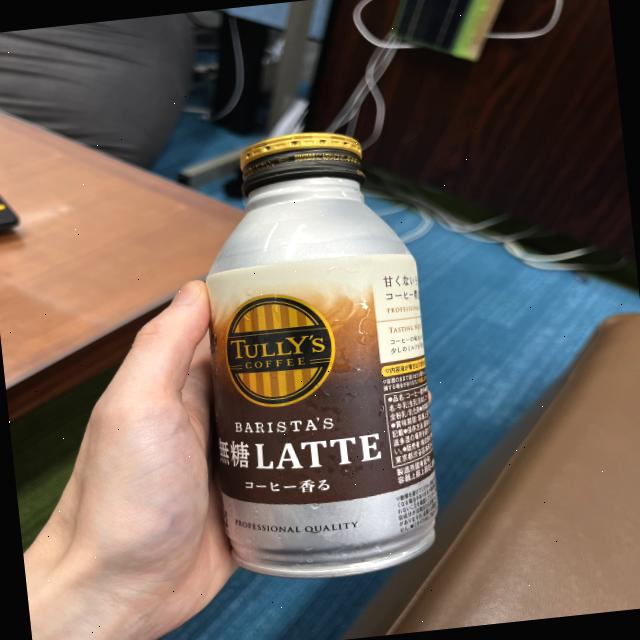coffee-latte: (181, 122, 450, 586)
